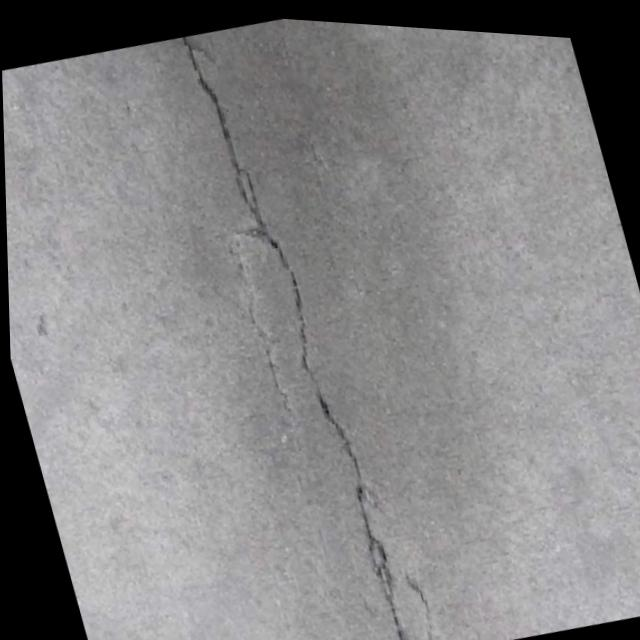Crack: (143, 7, 464, 640)
